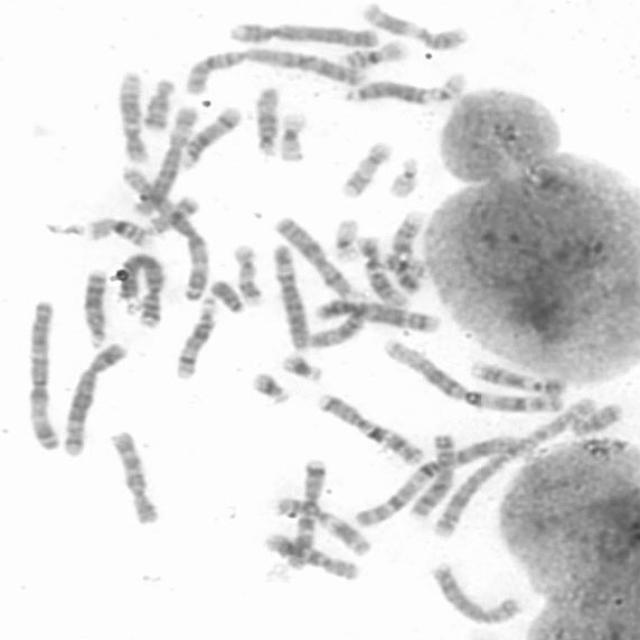A1: (352, 434, 522, 530), (382, 336, 566, 414)
A2: (428, 396, 600, 542), (181, 46, 368, 97)
A3: (118, 165, 212, 302), (24, 299, 60, 453)
B4: (228, 19, 384, 51), (116, 250, 167, 330)
B5: (61, 340, 128, 458), (311, 298, 443, 336)
C10: (107, 428, 160, 526), (264, 532, 360, 582)
C11: (275, 496, 374, 558), (359, 2, 469, 50)
C12: (357, 235, 414, 310), (116, 70, 152, 166)
C6: (131, 106, 198, 219), (272, 243, 313, 353)
C7: (314, 389, 428, 468), (284, 458, 329, 572)
C8: (427, 562, 526, 628), (406, 429, 460, 518)
C9: (469, 357, 569, 398), (388, 210, 428, 296)
D13: (342, 78, 431, 107), (80, 268, 108, 352)
D14: (179, 106, 245, 172), (172, 294, 217, 380)
D15: (308, 291, 372, 350), (253, 85, 281, 164)
E16: (82, 214, 159, 250), (339, 36, 412, 72)
E17: (338, 140, 395, 202), (233, 243, 264, 307)
E18: (140, 77, 178, 131), (570, 402, 624, 439)
F19: (277, 112, 309, 164), (332, 218, 360, 267)
F20: (147, 194, 199, 236), (379, 249, 431, 282)
G21: (251, 370, 292, 407), (281, 351, 324, 384)
G22: (427, 68, 469, 105), (387, 157, 422, 200)
X: (274, 216, 357, 302)
Y: (210, 279, 248, 315)
